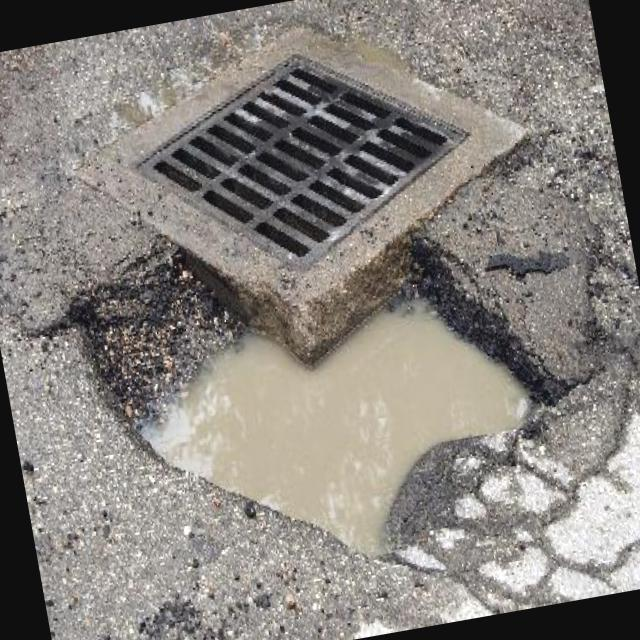Lubang: (68, 246, 564, 578)
